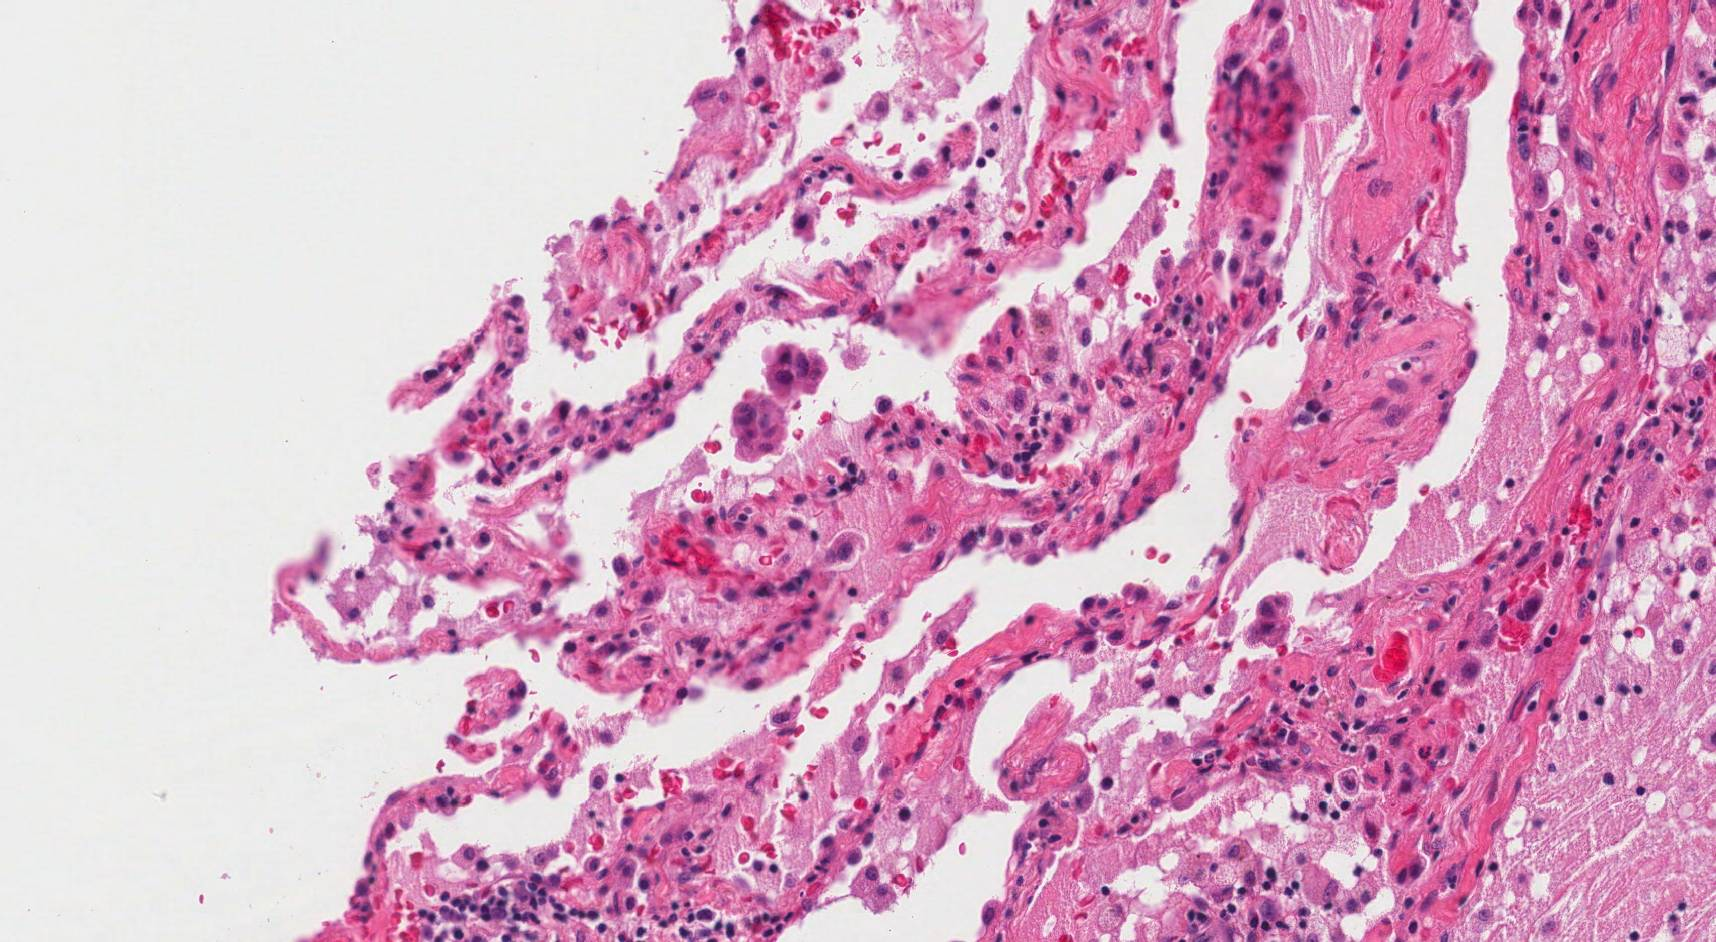stas: (729, 385, 790, 461), (760, 339, 827, 402), (1246, 594, 1294, 650)
